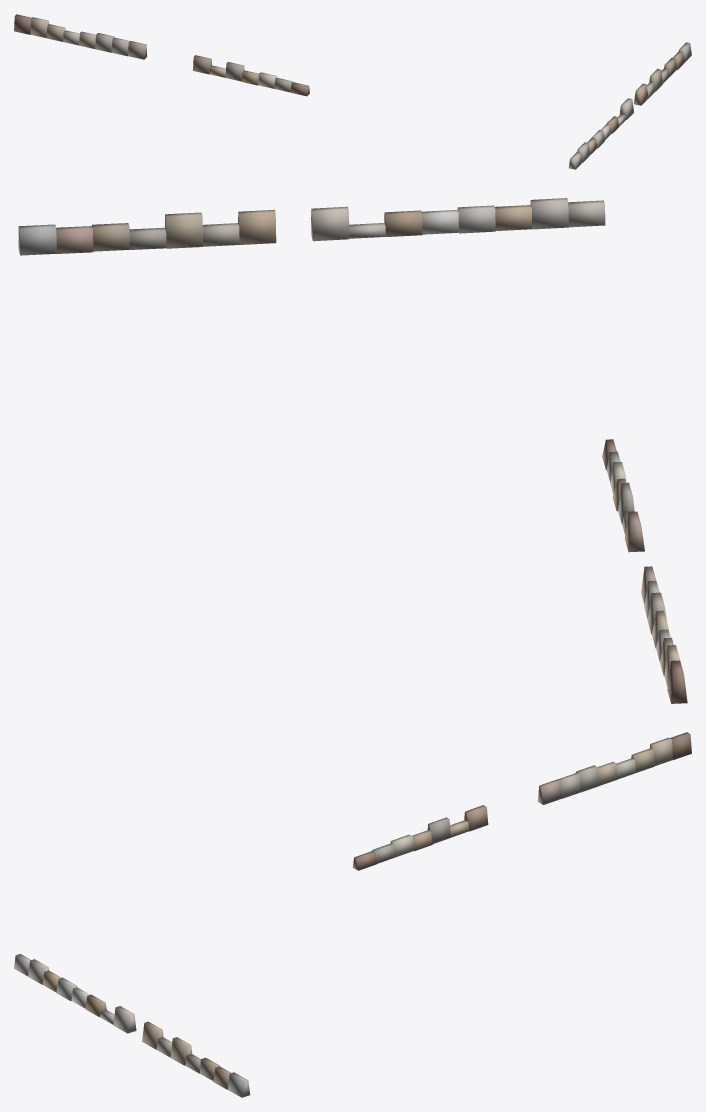
Rendered from farm_27_16_collision.glb.
3 views of the same model, one above another, from view 1: azimuth 30°, elevation 25°; view 2: azimuth 150°, elevation 25°; view 3: azimuth 270°, elevation 25° (orthographic). The views are drawn at different scales.
Parts seen in each view (by area): view 1: geometry_0; view 2: geometry_0; view 3: geometry_0.
Part boxes in pixels (<box>): geometry_0: <box>14,14,691,169</box>; geometry_0: <box>18,198,687,703</box>; geometry_0: <box>14,732,691,1097</box>.
Bounding box in the file's own units: 50.29 × 3.52 × 45.13.
